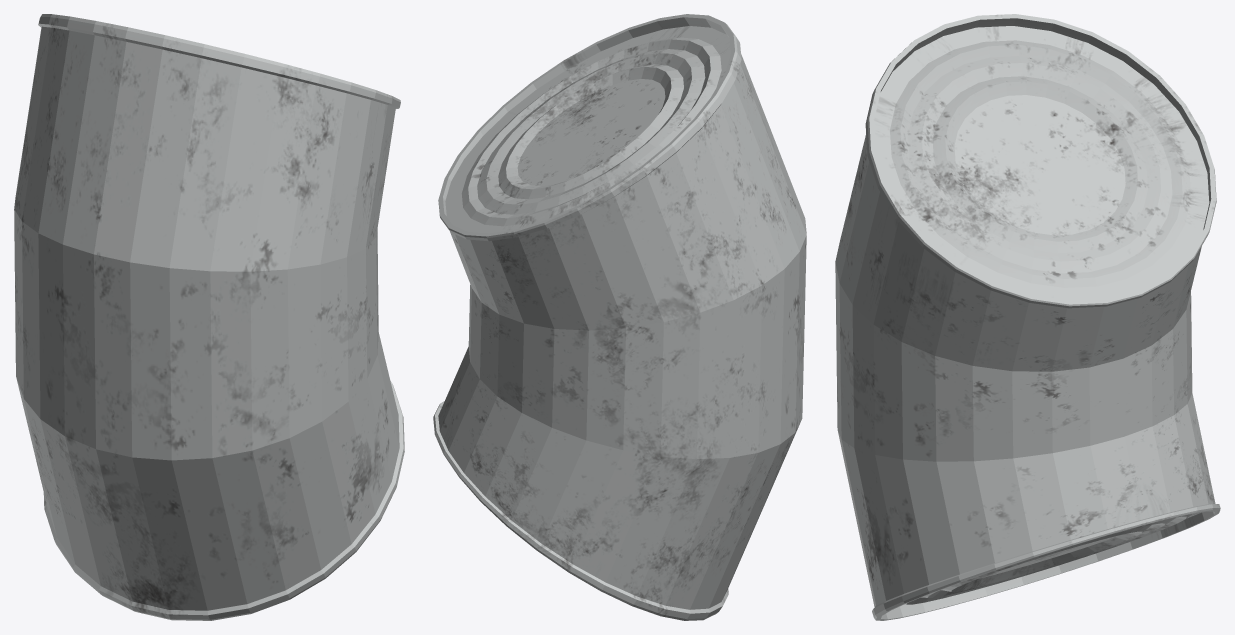
Rendered from bend_high_1.obj.
3 renders of one model, left to right at view 1: azimuth 30°, elevation 25°; view 2: azimuth 150°, elevation 25°; view 3: azimuth 270°, elevation 25°, orthographic. The views are drawn at different scales.
Parts seen in each view (by area): view 1: Cam_l__0; view 2: Cam_l__0; view 3: Cam_l__0.
Part boxes in pixels (x1,y1,x2,y2): Cam_l__0: [14, 14, 404, 620]; Cam_l__0: [433, 14, 806, 620]; Cam_l__0: [835, 14, 1220, 620].
Bounding box in the file's own units: 0.1 × 0.1629 × 0.0986.
Materials: 1 (1 with a texture image).
